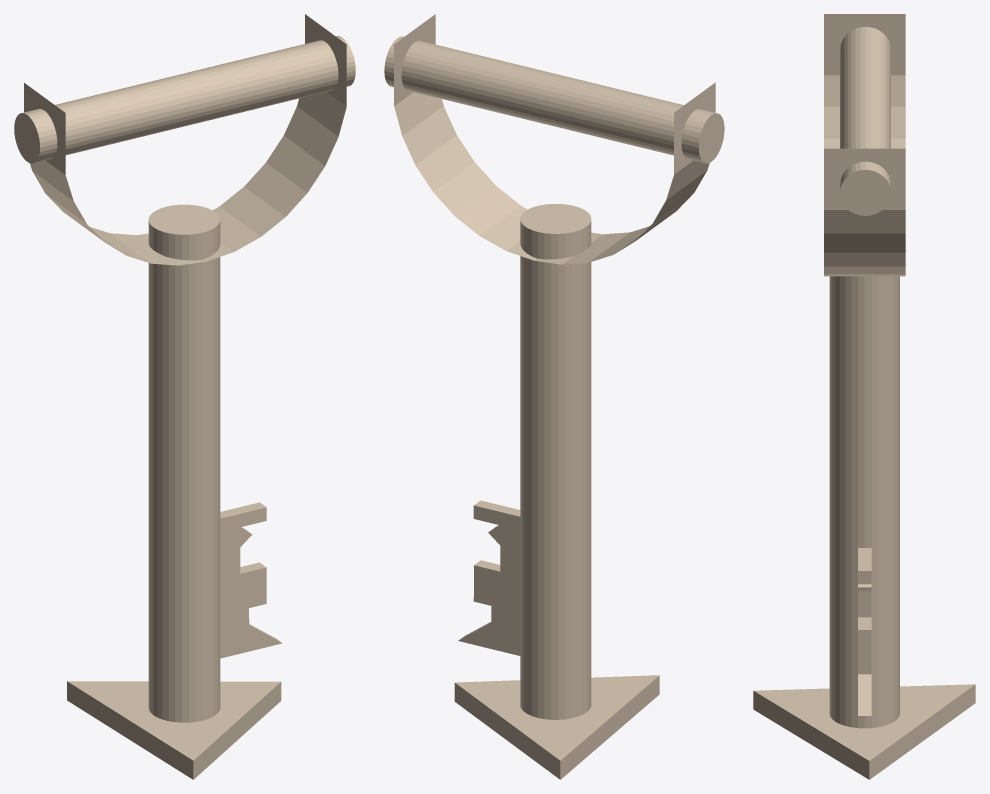
Rendered from False key 3.glb.
3 views of the same model, side by side, from view 1: azimuth 30°, elevation 25°; view 2: azimuth 150°, elevation 25°; view 3: azimuth 270°, elevation 25° (orthographic).
Parts seen in each view (by area): view 1: Cylinder.009, Cylinder.010, Cylinder.011, Plane.007, Plane.006; view 2: Cylinder.009, Cylinder.010, Cylinder.011, Plane.007, Plane.006; view 3: Cylinder.009, Cylinder.011, Plane.007, Cylinder.010, Plane.006.
Boxes of the visible parts, x1,y1,x2,y2 form: Cylinder.009: [148, 204, 220, 722]; Cylinder.010: [14, 36, 355, 163]; Cylinder.011: [24, 14, 346, 265]; Plane.007: [67, 681, 281, 779]; Plane.006: [220, 502, 282, 658]; Cylinder.009: [520, 203, 591, 719]; Cylinder.010: [384, 36, 724, 163]; Cylinder.011: [394, 14, 715, 264]; Plane.007: [454, 675, 659, 779]; Plane.006: [458, 500, 520, 655]; Cylinder.009: [829, 276, 899, 728]; Cylinder.011: [824, 14, 905, 276]; Plane.007: [753, 684, 975, 779]; Cylinder.010: [840, 27, 890, 215]; Plane.006: [858, 548, 871, 715].
Bounding box in the file's own units: 0.1809 × 0.3632 × 0.1123.
